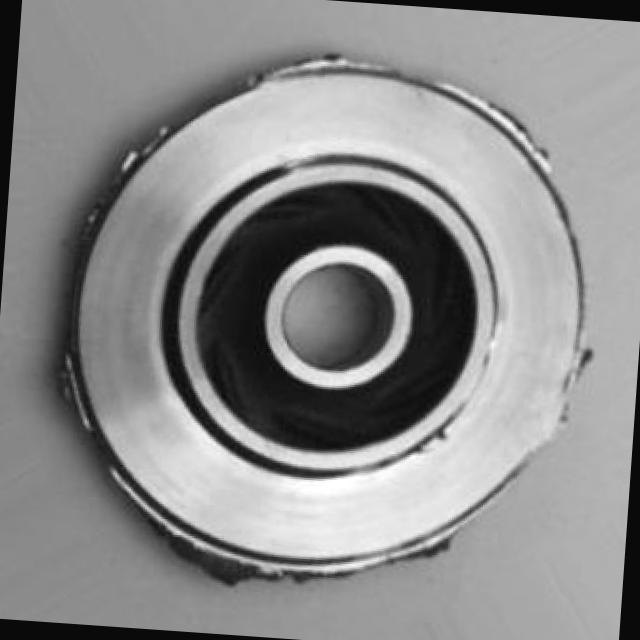Defect: (440, 80, 586, 170)
